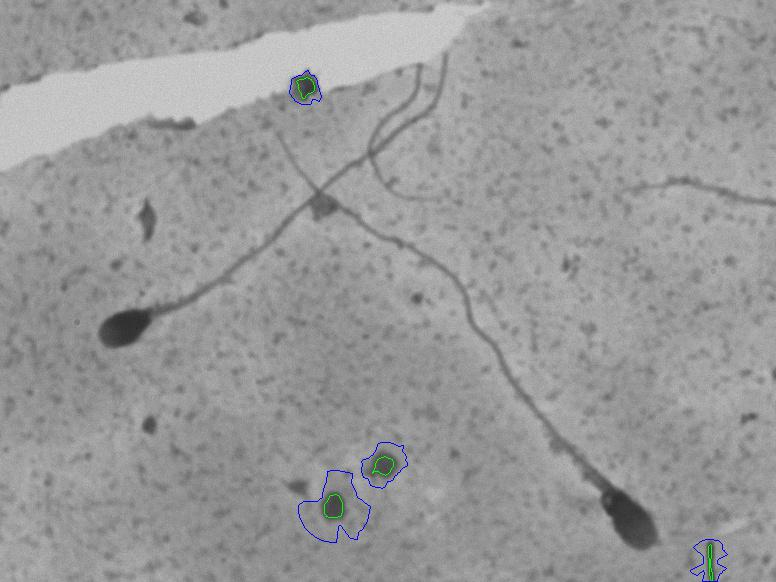Abnormal: (265, 124, 664, 564)
Normal: (83, 60, 465, 372)
